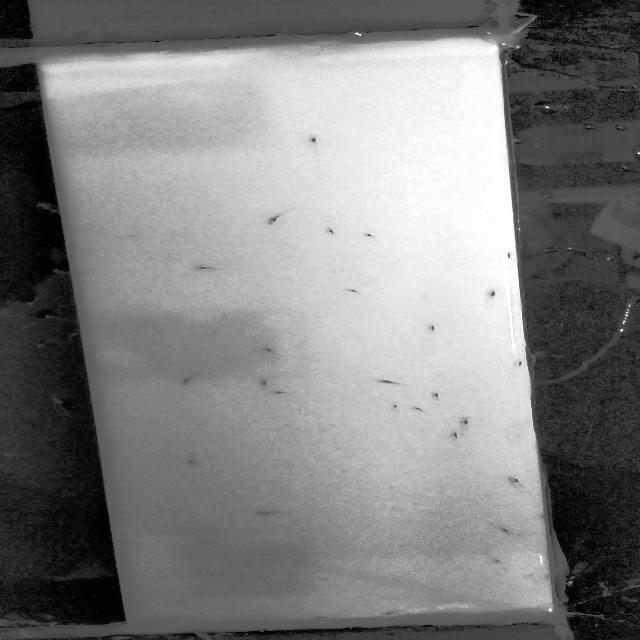shrimp: (492, 521, 520, 539), (261, 211, 287, 228), (184, 262, 218, 275), (375, 376, 408, 389), (250, 508, 284, 520), (319, 224, 343, 240), (173, 374, 197, 388), (372, 607, 400, 619), (259, 343, 281, 358), (303, 134, 327, 146), (422, 323, 445, 335), (483, 289, 504, 302), (505, 475, 525, 488), (360, 229, 381, 241), (508, 358, 527, 371), (426, 390, 444, 403), (387, 401, 408, 412), (181, 456, 200, 468), (342, 286, 364, 296), (307, 611, 328, 621), (445, 430, 467, 439), (254, 378, 272, 388), (409, 406, 430, 414), (274, 389, 292, 396), (453, 418, 478, 423)
